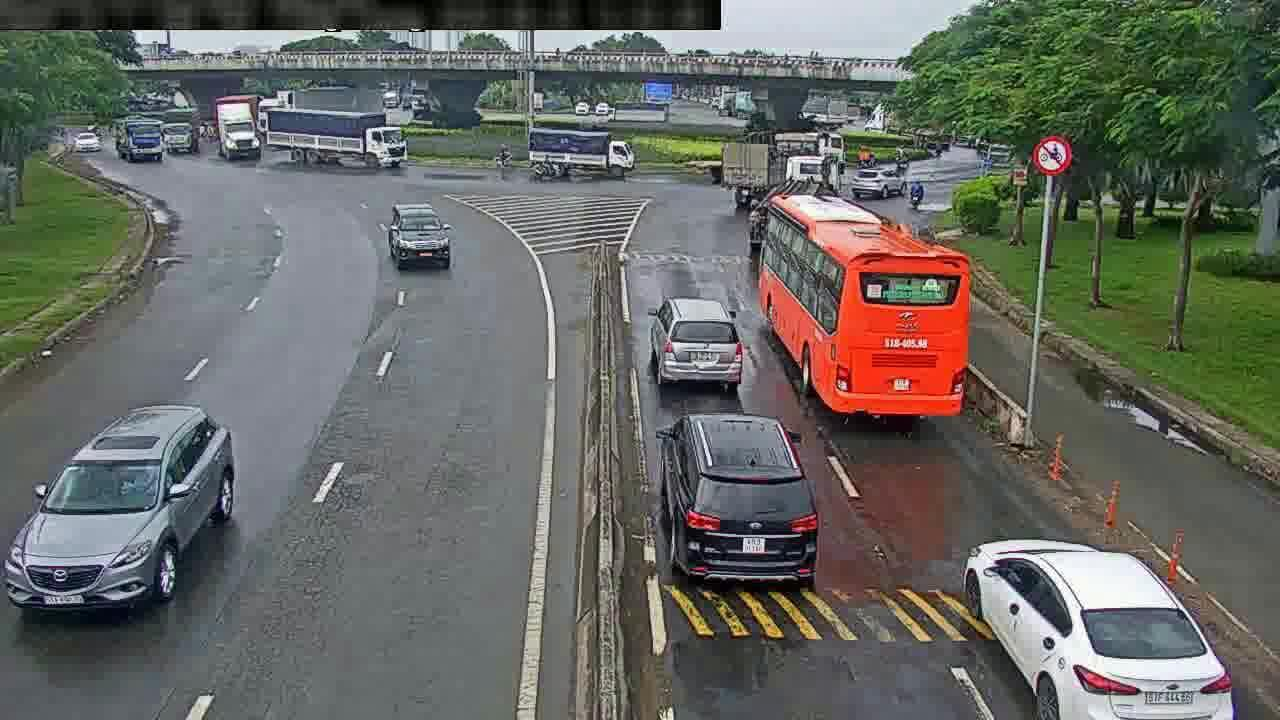14: (753, 186, 985, 417)
8: (263, 107, 409, 169), (531, 124, 638, 176), (115, 118, 168, 164)
container: (958, 529, 1239, 720), (4, 406, 239, 625), (652, 404, 832, 588), (648, 292, 746, 393), (386, 202, 460, 272), (848, 166, 911, 202)
